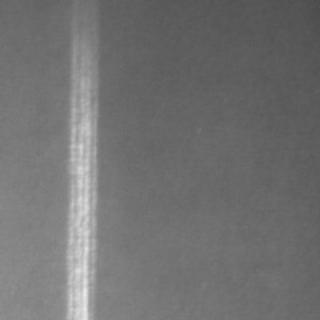scratches: (59, 15, 97, 317)
